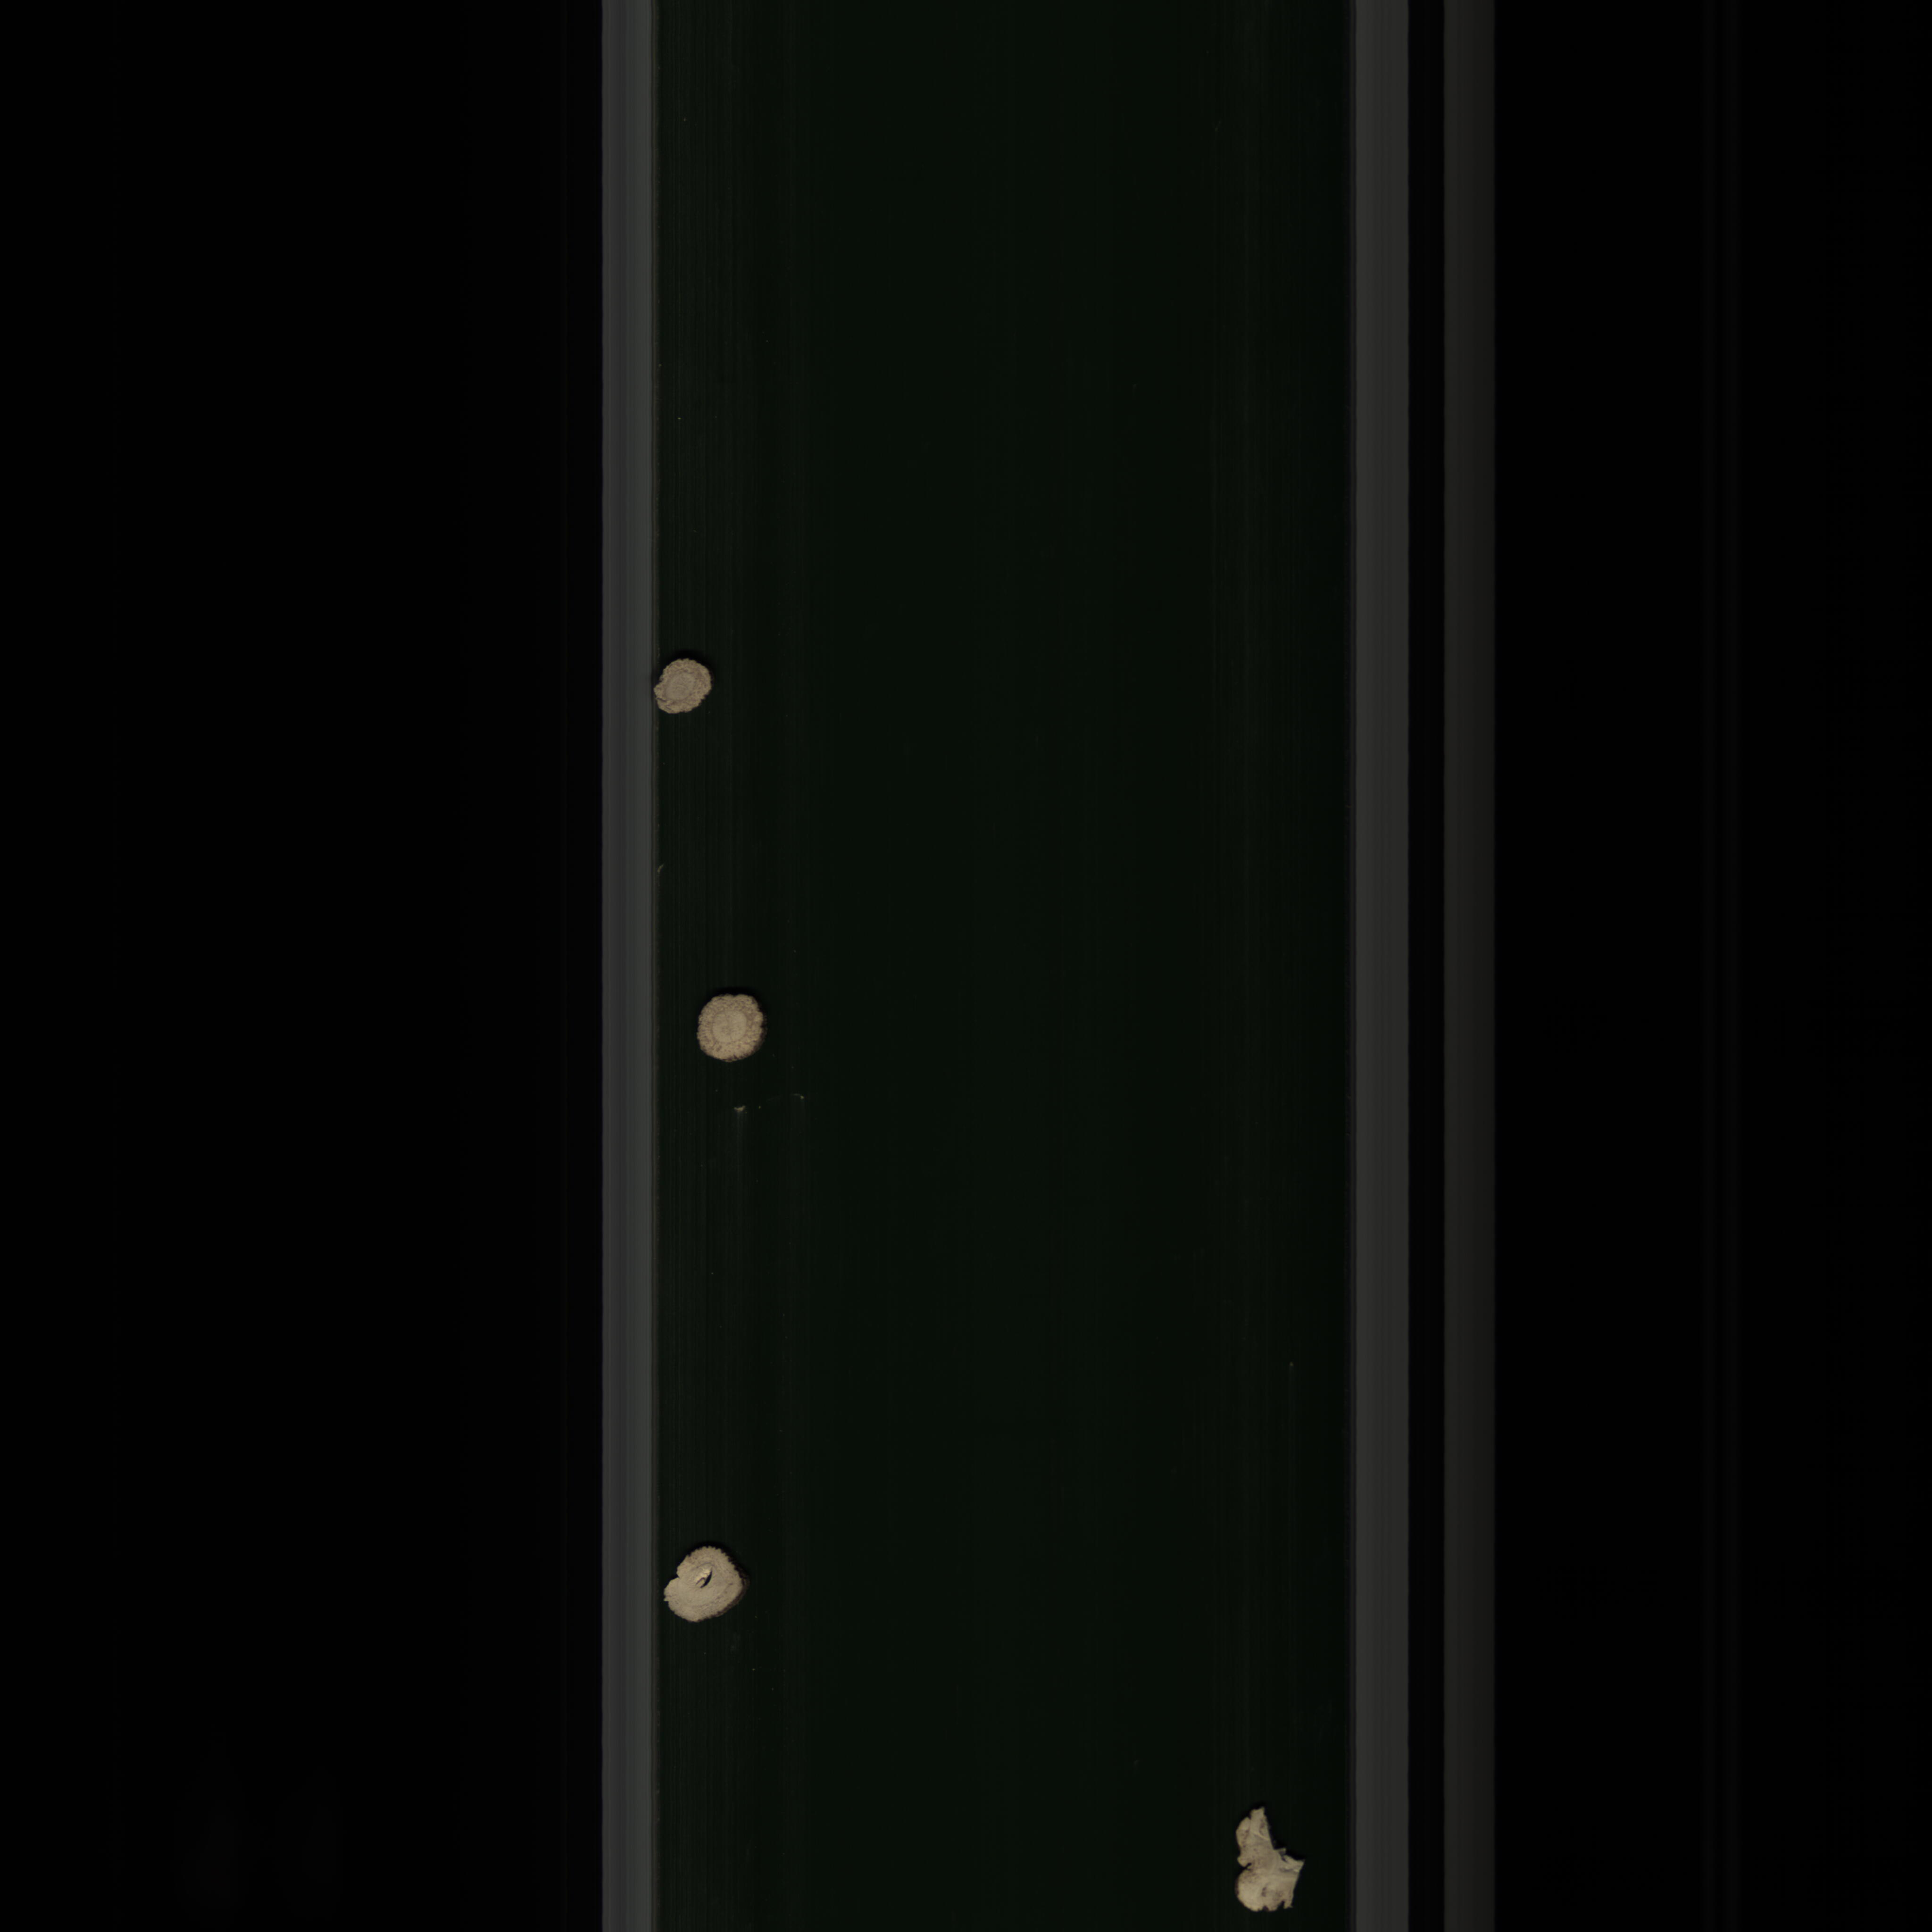debris: (1223, 1796, 1318, 1921)
hole: (653, 1536, 759, 1626)
